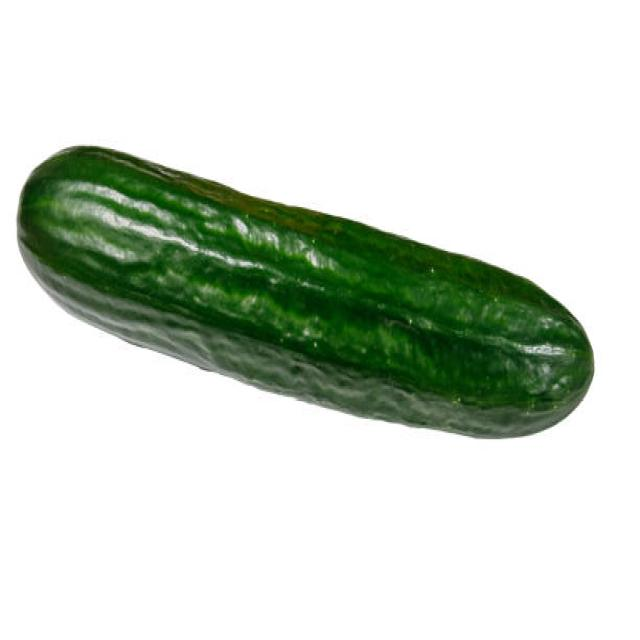cucumber: (19, 142, 597, 442)
